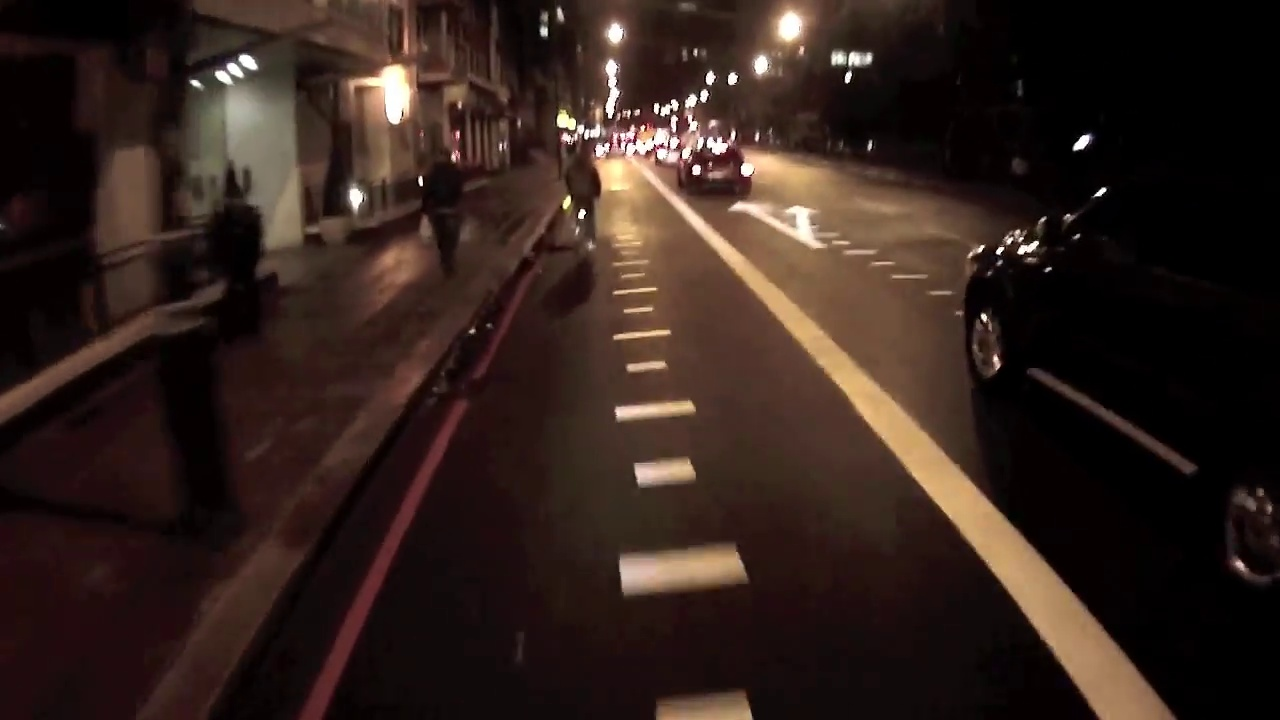cyclist_back: (567, 139, 613, 253)
